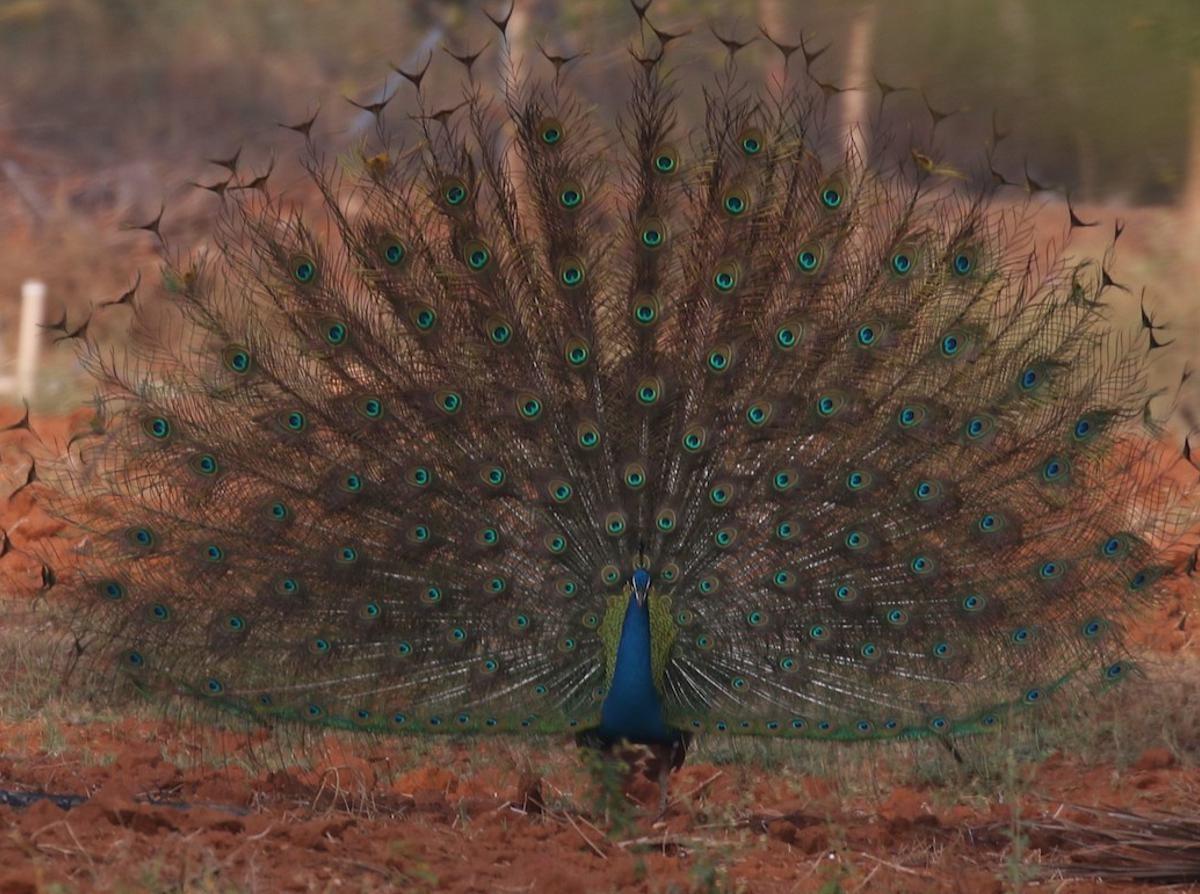peacock: (108, 147, 1150, 805)
